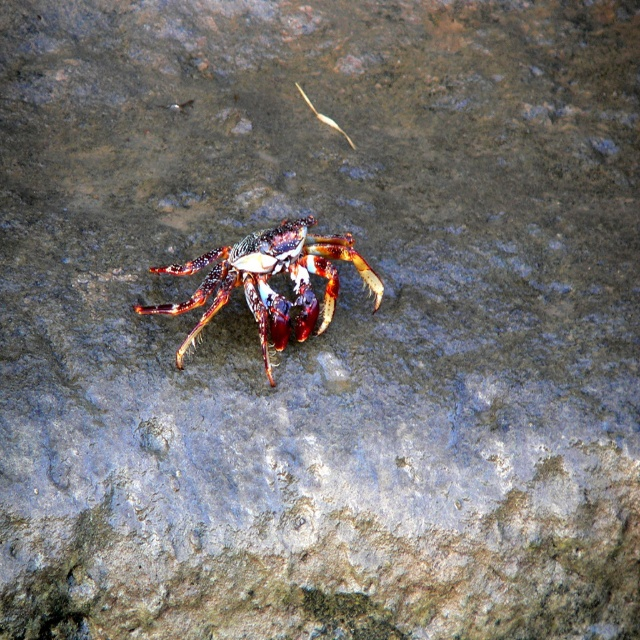Crab: (133, 215, 384, 388)
